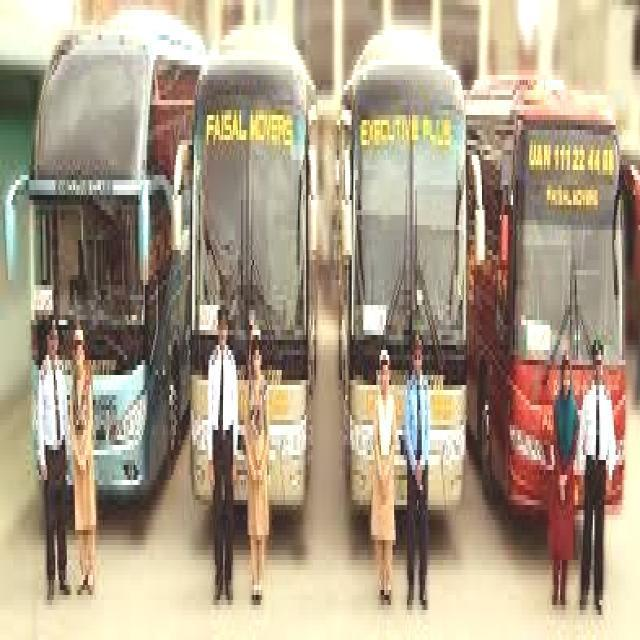Bus: (461, 0, 640, 580), (16, 11, 194, 506), (330, 26, 472, 545), (186, 21, 314, 550)
